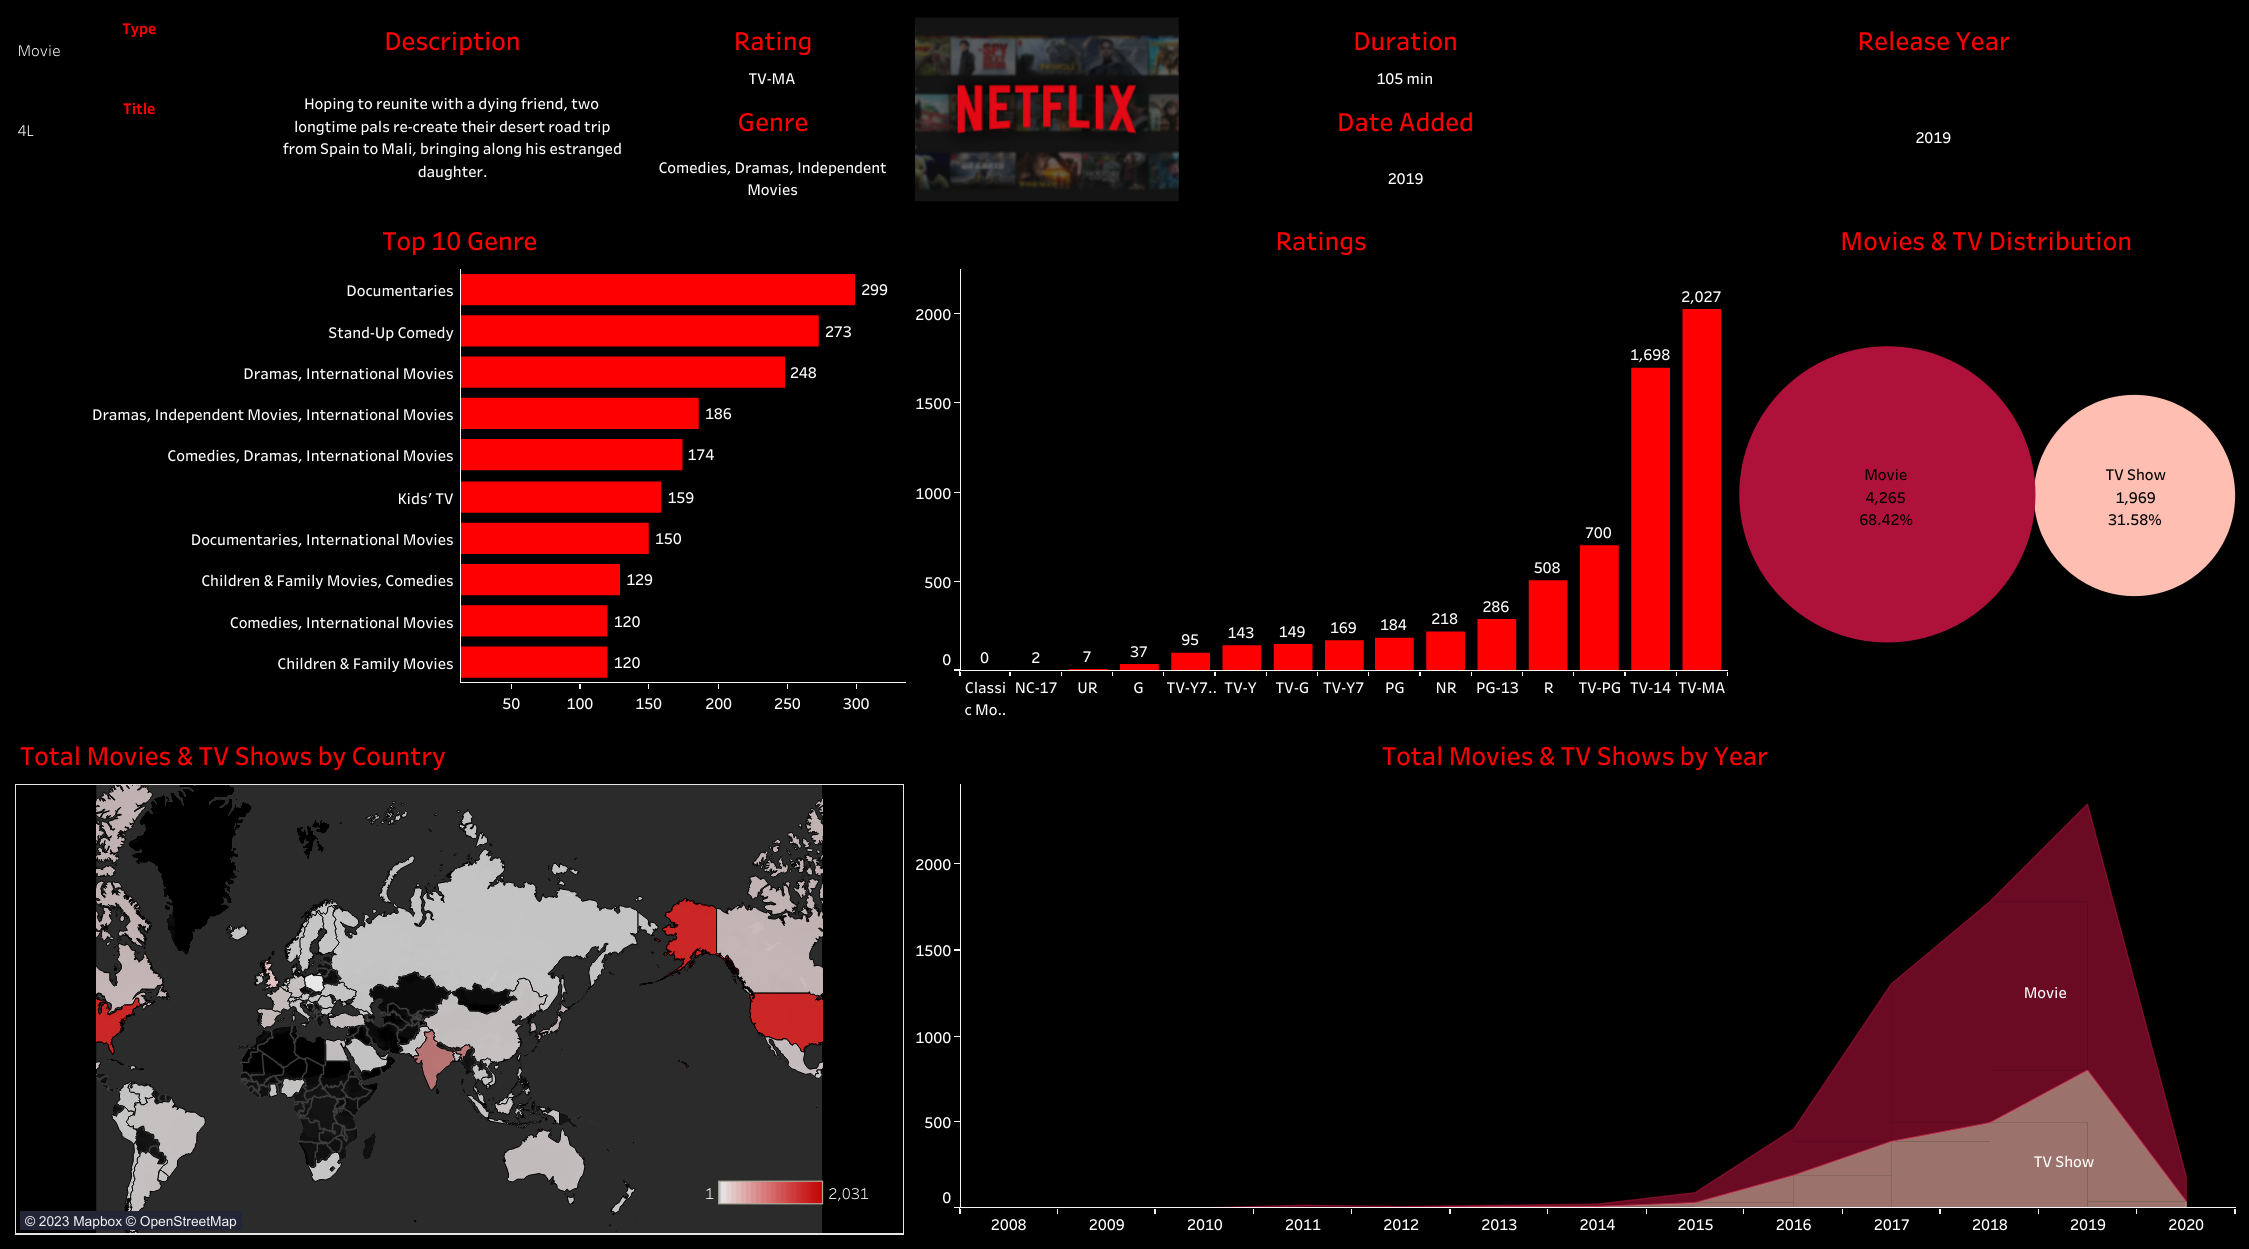

This screenshot's page, from the dashboard's own definition file:
{"tool":"tableau","page":{"name":"Netflix","canvas":[1800,1000],"ordinal":0},"visuals":[{"type":"filter","title":"Description","param":"[federated.1gscefv0ze73s812farir0rzkb1k].[none:type:nk]","box":[8,8,207,64]},{"type":"worksheet","title":"Description","mark":"Automatic","box":[215,8,294,160]},{"type":"worksheet","title":"Rating","mark":"Automatic","box":[509,8,219,65]},{"type":"image","param":"Image/netflix.jpg","box":[728,8,219,160]},{"type":"worksheet","title":"Duration","mark":"Automatic","box":[947,8,355,65]},{"type":"worksheet","title":"Release Year","mark":"Automatic","box":[1302,8,490,160]},{"type":"filter","title":"Description","param":"[federated.1gscefv0ze73s812farir0rzkb1k].[none:title:nk]","box":[8,72,207,96]},{"type":"worksheet","title":"Genre","mark":"Automatic","box":[509,73,219,95]},{"type":"worksheet","title":"Date Added","mark":"Automatic","box":[947,73,355,95]},{"type":"worksheet","title":"Top 10 Genre","mark":"Automatic","rows":["listed_in"],"cols":["show_id"],"box":[8,168,720,412]},{"type":"worksheet","title":"Ratings","mark":"Automatic","rows":["show_id"],"cols":["rating"],"box":[728,168,657.7,412]},{"type":"worksheet","title":"Movies and TV Shows Distribution","mark":"Circle","box":[1385.7,168,406.3,412]},{"type":"worksheet","title":"Total Movies and TV Shows by Country","mark":"Multipolygon","box":[8,580,720,412]},{"type":"worksheet","title":"Total Movies & TV Shows By Year","mark":"Area","rows":["show_id"],"cols":["date_added"],"box":[728,580,1064,412]},{"type":"legend","title":"Total Movies and TV Shows by Country","param":"[federated.1gscefv0ze73s812farir0rzkb1k].[ctd:show_id:qk]","box":[560,941,140,43]}]}

Visuals, with their boxes in screenshot pixels (x1, y1, x2, y2), scaled from the page's 1800x1000 canvas onto the 2249x1249 screenshot:
"Description" filter: [left=10, top=10, right=269, bottom=90]
"Description" worksheet: [left=269, top=10, right=636, bottom=210]
"Rating" worksheet: [left=636, top=10, right=910, bottom=91]
image: [left=910, top=10, right=1183, bottom=210]
"Duration" worksheet: [left=1183, top=10, right=1627, bottom=91]
"Release Year" worksheet: [left=1627, top=10, right=2239, bottom=210]
"Description" filter: [left=10, top=90, right=269, bottom=210]
"Genre" worksheet: [left=636, top=91, right=910, bottom=210]
"Date Added" worksheet: [left=1183, top=91, right=1627, bottom=210]
"Top 10 Genre" worksheet: [left=10, top=210, right=910, bottom=724]
"Ratings" worksheet: [left=910, top=210, right=1731, bottom=724]
"Movies and TV Shows Distribution" worksheet (Circle marks): [left=1731, top=210, right=2239, bottom=724]
"Total Movies and TV Shows by Country" worksheet (Multipolygon marks): [left=10, top=724, right=910, bottom=1239]
"Total Movies & TV Shows By Year" worksheet (Area marks): [left=910, top=724, right=2239, bottom=1239]
"Total Movies and TV Shows by Country" legend: [left=700, top=1175, right=875, bottom=1229]
